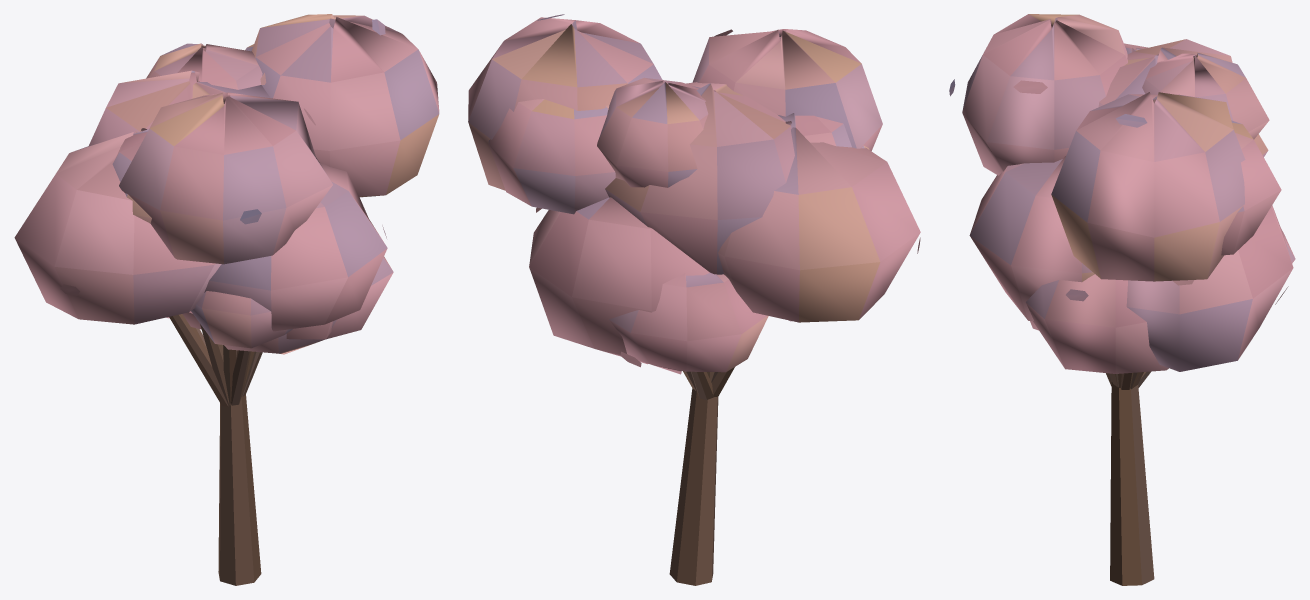
File: HK_Tree_Sakura.lod.glb
The picture shows the model from 3 angles, left to right: view 1: azimuth 30°, elevation 25°; view 2: azimuth 150°, elevation 25°; view 3: azimuth 270°, elevation 25°; orthographic projection. The views are drawn at different scales.
Visible parts, largest first — view 1: HK_Tree_Sakura; view 2: HK_Tree_Sakura; view 3: HK_Tree_Sakura.
Part boxes in pixels (x1,y1,x2,y2): HK_Tree_Sakura: (14, 14, 439, 585); HK_Tree_Sakura: (468, 14, 920, 585); HK_Tree_Sakura: (949, 14, 1295, 585).
Size of the model in its own units: 4.72 by 5.76 by 3.35.
